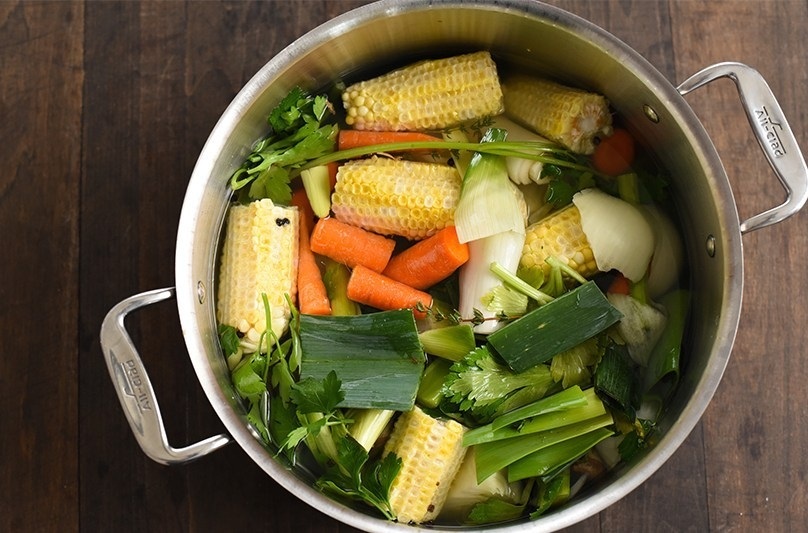kitchen_waste: (464, 373, 621, 481), (336, 50, 510, 139), (286, 306, 431, 412), (213, 197, 308, 353), (481, 278, 628, 378), (331, 149, 476, 237), (373, 395, 470, 525), (452, 123, 539, 256), (564, 180, 664, 281), (502, 66, 622, 150), (635, 269, 694, 400), (345, 261, 445, 322), (384, 224, 471, 290), (308, 216, 410, 267)
